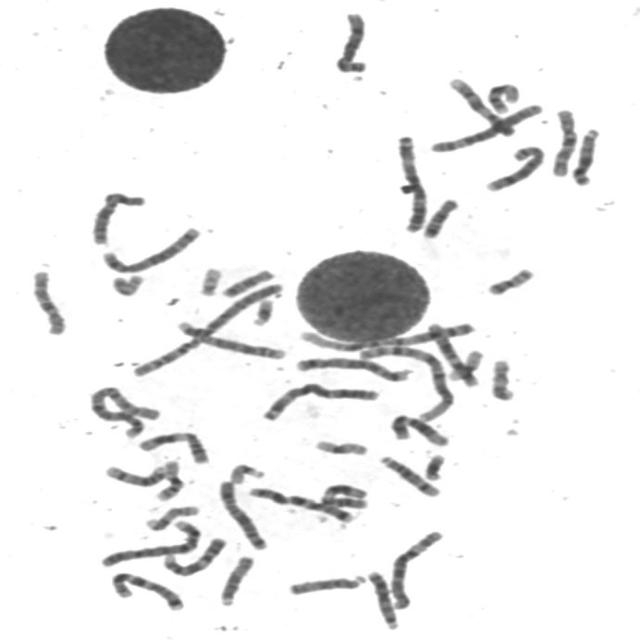A1: (356, 341, 456, 423), (294, 318, 478, 353)
A2: (125, 278, 285, 378), (84, 382, 162, 440)
A3: (256, 380, 383, 422), (391, 131, 429, 235)
B4: (95, 517, 204, 569), (173, 320, 287, 364)
B5: (97, 223, 204, 274), (292, 354, 414, 383)
C10: (26, 266, 69, 337), (547, 105, 580, 178)
C11: (133, 428, 213, 465), (312, 477, 372, 513)
C12: (423, 320, 482, 388), (386, 412, 451, 447)
C6: (426, 100, 546, 154), (384, 527, 446, 611)
C7: (245, 484, 357, 524), (106, 569, 187, 612)
C8: (481, 142, 548, 194), (330, 9, 371, 74)
C9: (444, 74, 519, 138), (158, 534, 228, 578)
D13: (362, 568, 402, 631), (567, 126, 603, 188)
D14: (375, 452, 444, 498), (100, 462, 169, 488)
D15: (215, 552, 256, 608), (284, 572, 369, 596)
E16: (151, 457, 186, 502), (483, 80, 522, 115)
E17: (142, 502, 202, 532), (486, 356, 518, 402)
E18: (418, 195, 462, 240), (218, 266, 276, 298)
F19: (445, 347, 485, 382), (310, 436, 371, 457)
F20: (483, 265, 537, 297), (106, 271, 147, 297)
G21: (247, 295, 277, 328), (420, 451, 448, 482)
G22: (225, 460, 267, 486), (194, 264, 225, 297)
X: (214, 477, 270, 552), (86, 189, 148, 246)
